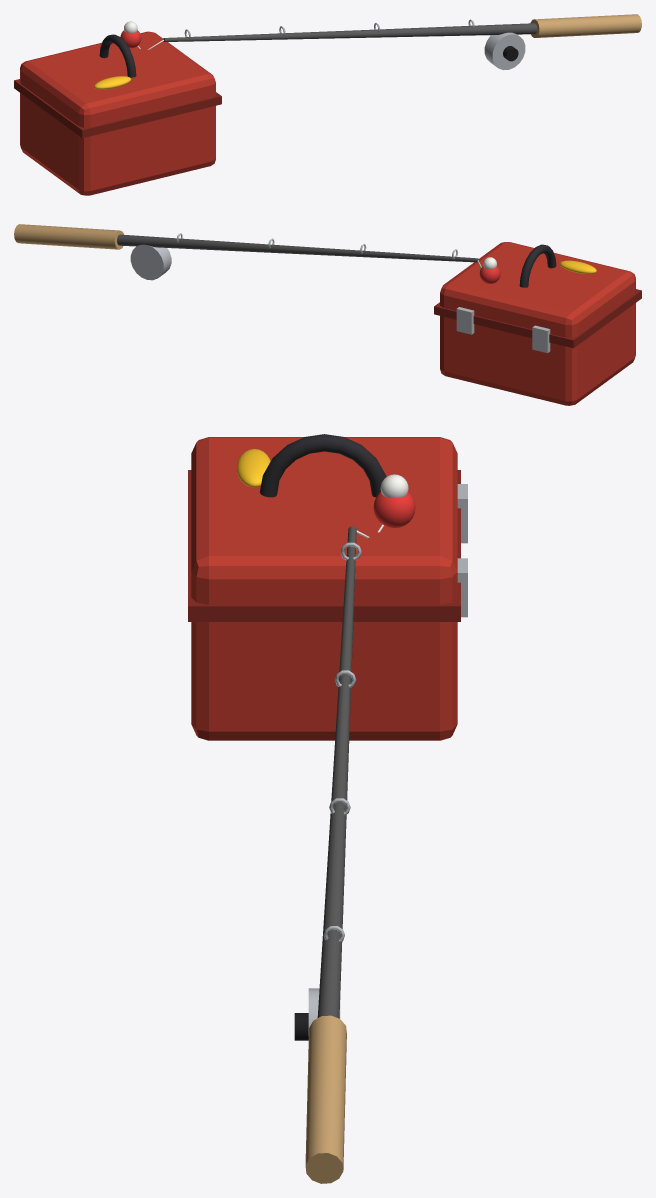
Rendered from fishing_rod.fbx.
The picture shows the model from 3 angles, top to bottom: view 1: azimuth 30°, elevation 25°; view 2: azimuth 150°, elevation 25°; view 3: azimuth 270°, elevation 25°; orthographic projection. The views are drawn at different scales.
Visible parts, largest first — view 1: Fishing Rod; view 2: Fishing Rod; view 3: Fishing Rod.
Part boxes in pixels (x1,y1,x2,y2): Fishing Rod: [14, 14, 641, 195]; Fishing Rod: [14, 224, 641, 405]; Fishing Rod: [188, 434, 467, 1183].
Bounding box in the file's own units: 3.89 × 0.785 × 0.8.
